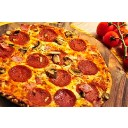pepperonipizza: (1, 26, 111, 107)
